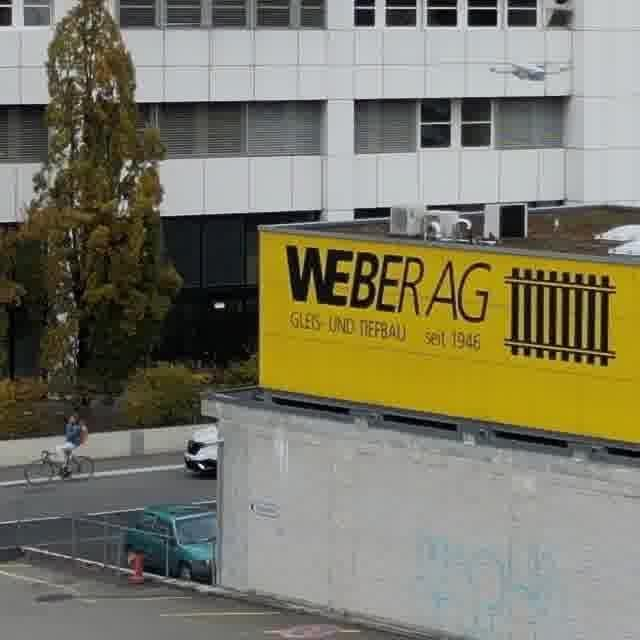Drohne: (491, 63, 570, 81)
